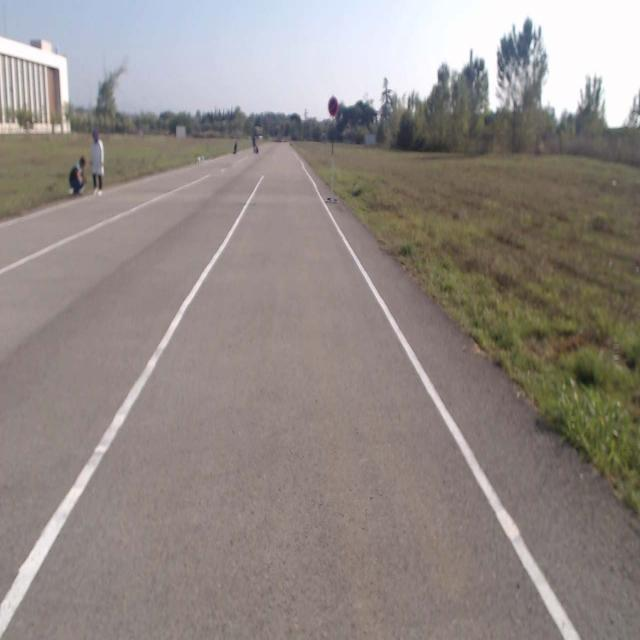parkyasak: (328, 96, 338, 116)
